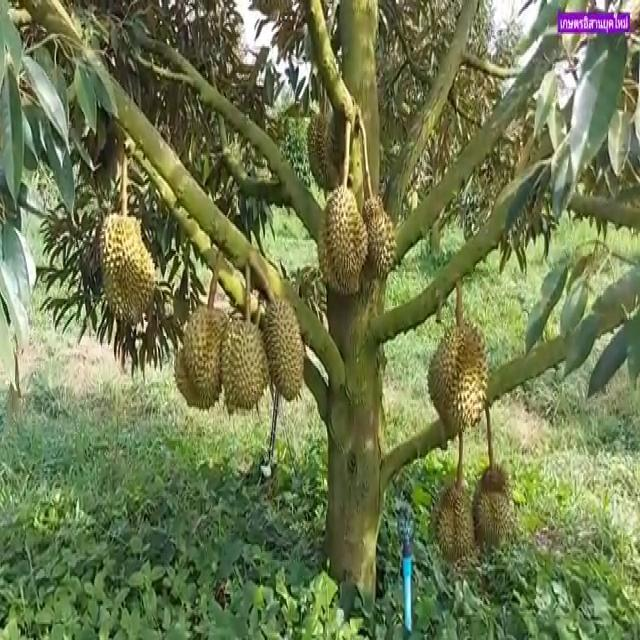durian: (95, 202, 158, 332), (427, 321, 489, 440), (172, 297, 232, 414), (215, 304, 271, 414), (317, 178, 368, 298), (258, 290, 306, 402), (428, 470, 478, 562), (356, 185, 397, 284), (304, 99, 344, 195), (471, 461, 515, 548)
